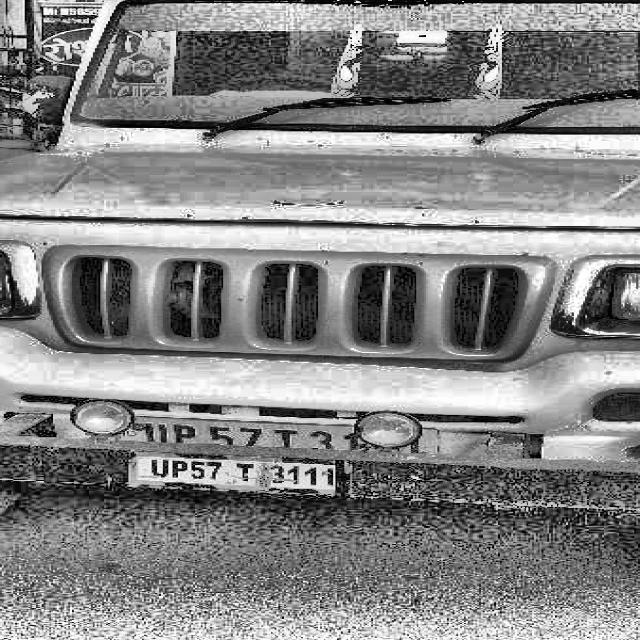light_vehicle: (0, 0, 640, 505)
